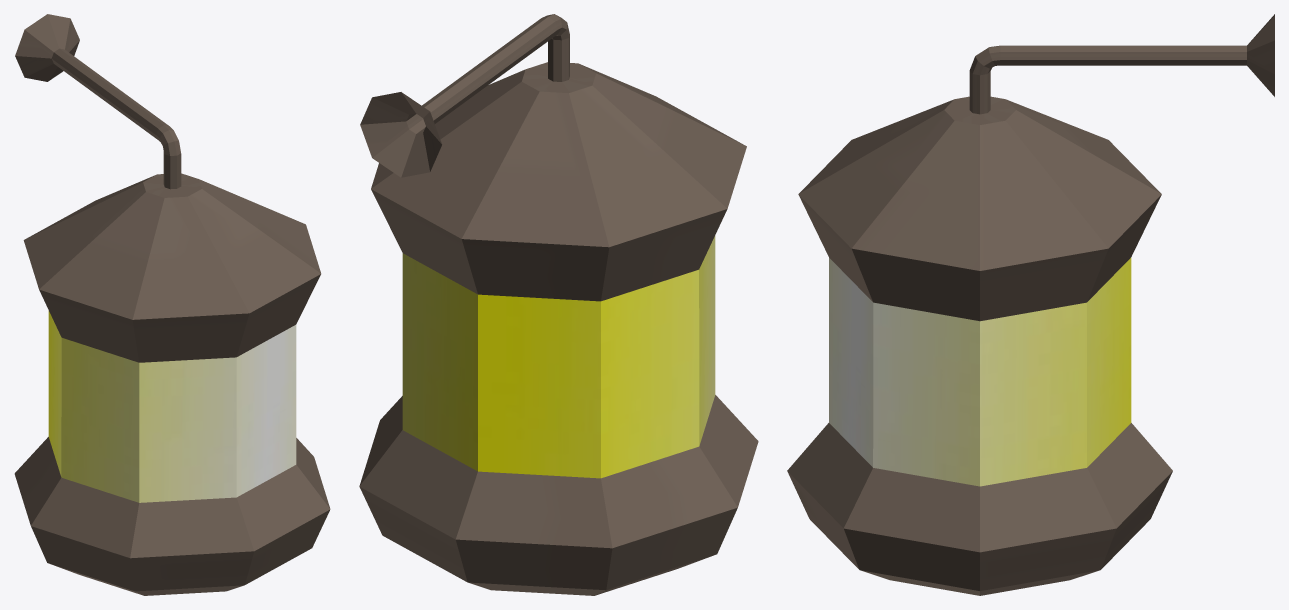
File: Lamp 1.fbx
3 views of the same model, side by side, from view 1: azimuth 30°, elevation 25°; view 2: azimuth 150°, elevation 25°; view 3: azimuth 270°, elevation 25° (orthographic). The views are drawn at different scales.
Parts seen in each view (by area): view 1: Lamp1; view 2: Lamp1; view 3: Lamp1.
Boxes of the visible parts, x1,y1,x2,y2 form: Lamp1: (14,14,330,595); Lamp1: (359,14,758,595); Lamp1: (787,14,1274,595).
Bounding box in the file's own units: 27.27 × 41.05 × 34.46.
Materials: 1 (1 with a texture image).
